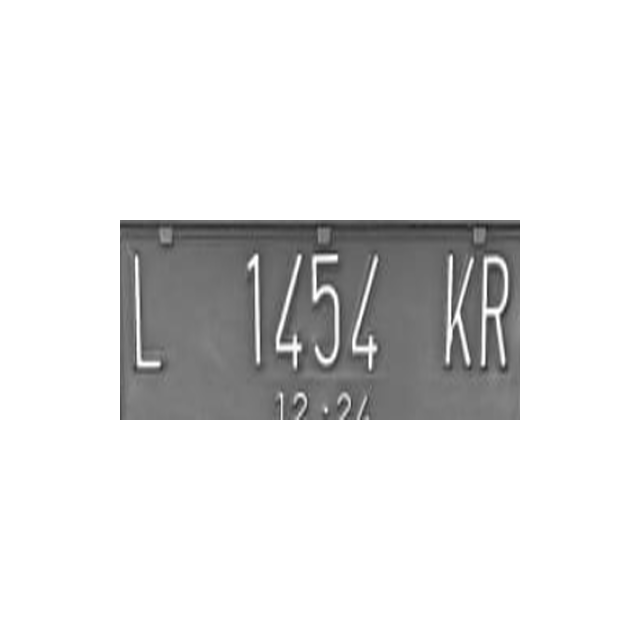contain: (128, 249, 167, 372), (227, 251, 266, 374), (266, 252, 305, 375), (306, 249, 345, 372), (346, 247, 385, 370), (437, 246, 476, 369), (474, 249, 513, 372)
